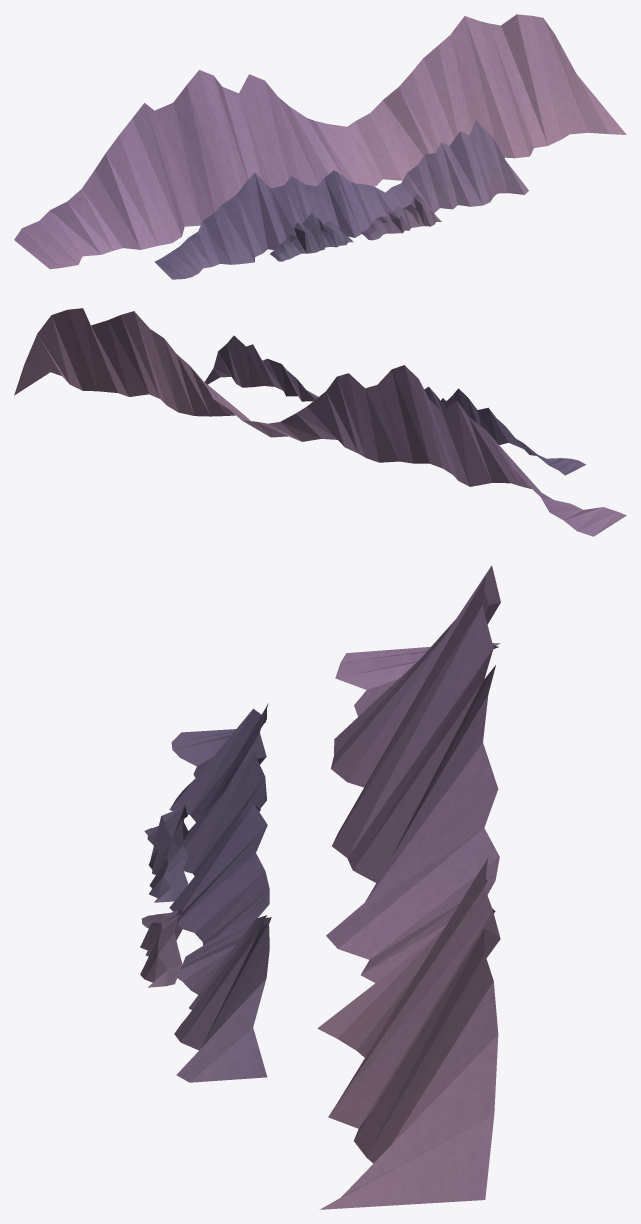
Rendered from Grand_Dojo_Valley_Ridges_LOD1.glb.
The picture shows the model from 3 angles, top to bottom: view 1: azimuth 30°, elevation 25°; view 2: azimuth 150°, elevation 25°; view 3: azimuth 270°, elevation 25°; orthographic projection. The views are drawn at different scales.
Visible parts, largest first — view 1: Grand Dojo Valley Ridges LOD1; view 2: Grand Dojo Valley Ridges LOD1; view 3: Grand Dojo Valley Ridges LOD1.
Part boxes in pixels (x1,y1,x2,y2): Grand Dojo Valley Ridges LOD1: (14, 14, 626, 279); Grand Dojo Valley Ridges LOD1: (14, 308, 626, 536); Grand Dojo Valley Ridges LOD1: (140, 565, 500, 1209).
Bounding box in the file's own units: 1804 × 388 × 493.
1 material, 1 textured.
